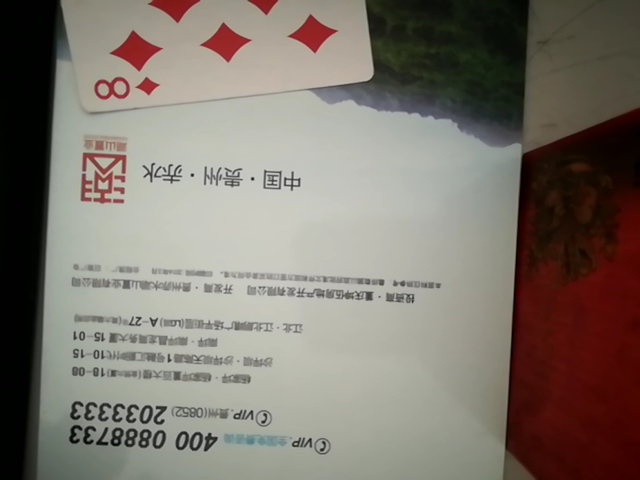fk 8: (57, 1, 375, 109)
